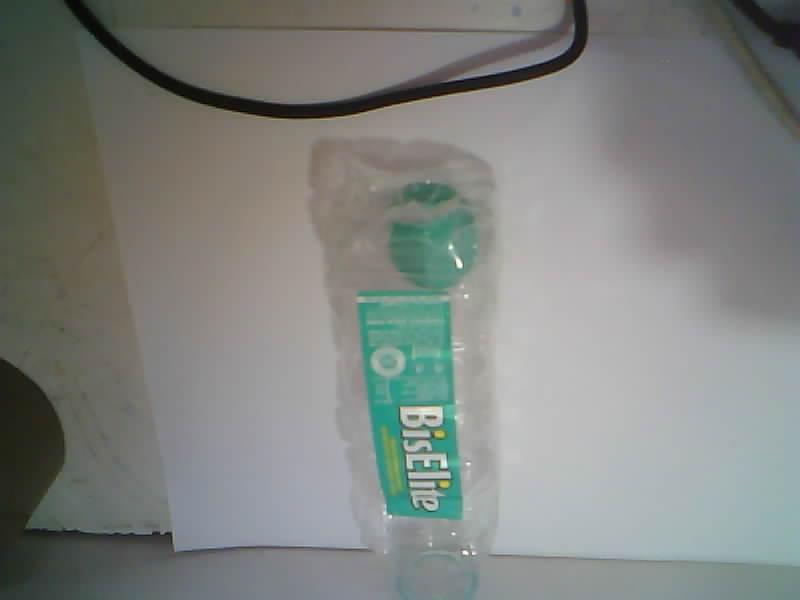non-biodegradable: (315, 145, 499, 599)
